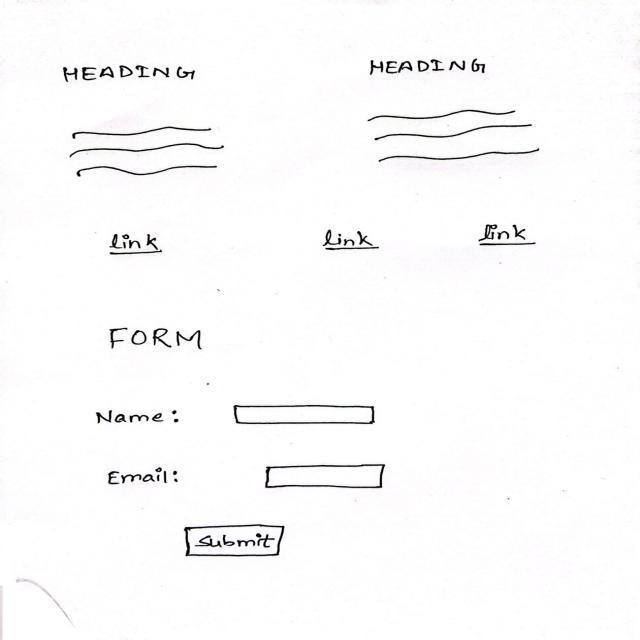textbox: (251, 454, 406, 495), (230, 398, 387, 438)
